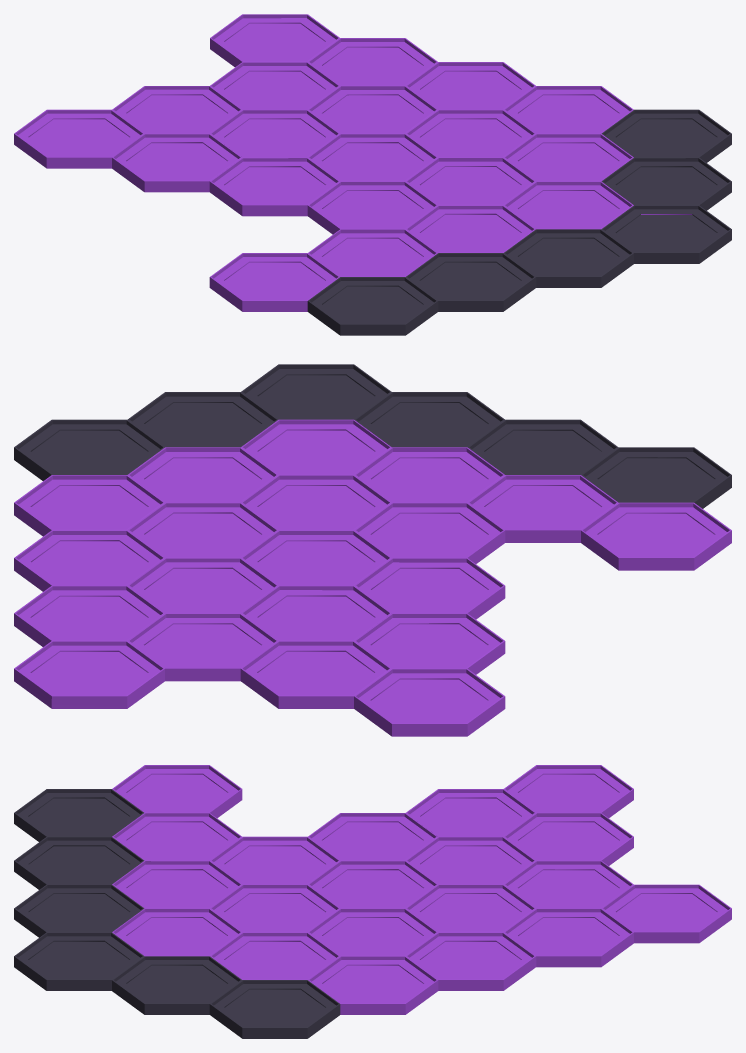
File: MoldInsertStage3_3.fbx
3 renders of one model, top to bottom at view 1: azimuth 30°, elevation 25°; view 2: azimuth 150°, elevation 25°; view 3: azimuth 270°, elevation 25°, orthographic. The views are drawn at different scales.
Parts seen in each view (by area): view 1: MoldInsertStage3_3; view 2: MoldInsertStage3_3; view 3: MoldInsertStage3_3.
Boxes of the visible parts, x1,y1,x2,y2 form: MoldInsertStage3_3: [14, 14, 731, 335]; MoldInsertStage3_3: [14, 364, 731, 736]; MoldInsertStage3_3: [14, 765, 731, 1038].
Size of the model in its own units: 1001 by 19.68 by 1156.
